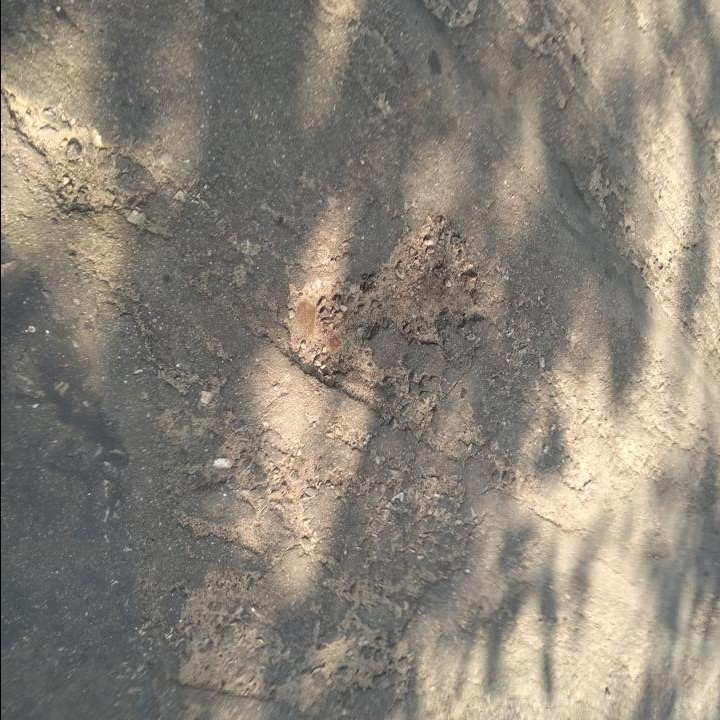pothole: (5, 73, 119, 223), (381, 207, 487, 350), (282, 267, 377, 384)
